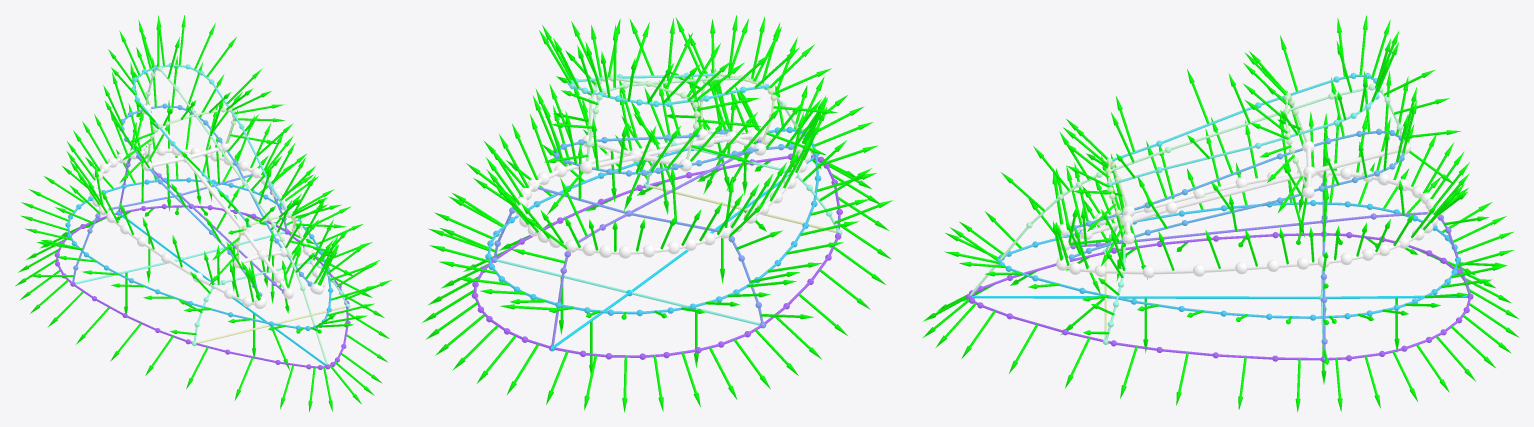
The model's file is t2f_iron.gltf.
The picture shows the model from 3 angles, left to right: view 1: azimuth 30°, elevation 25°; view 2: azimuth 150°, elevation 25°; view 3: azimuth 270°, elevation 25°; orthographic projection. The views are drawn at different scales.
Size of the model in its own units: 0.6616 by 0.5639 by 0.9539.
